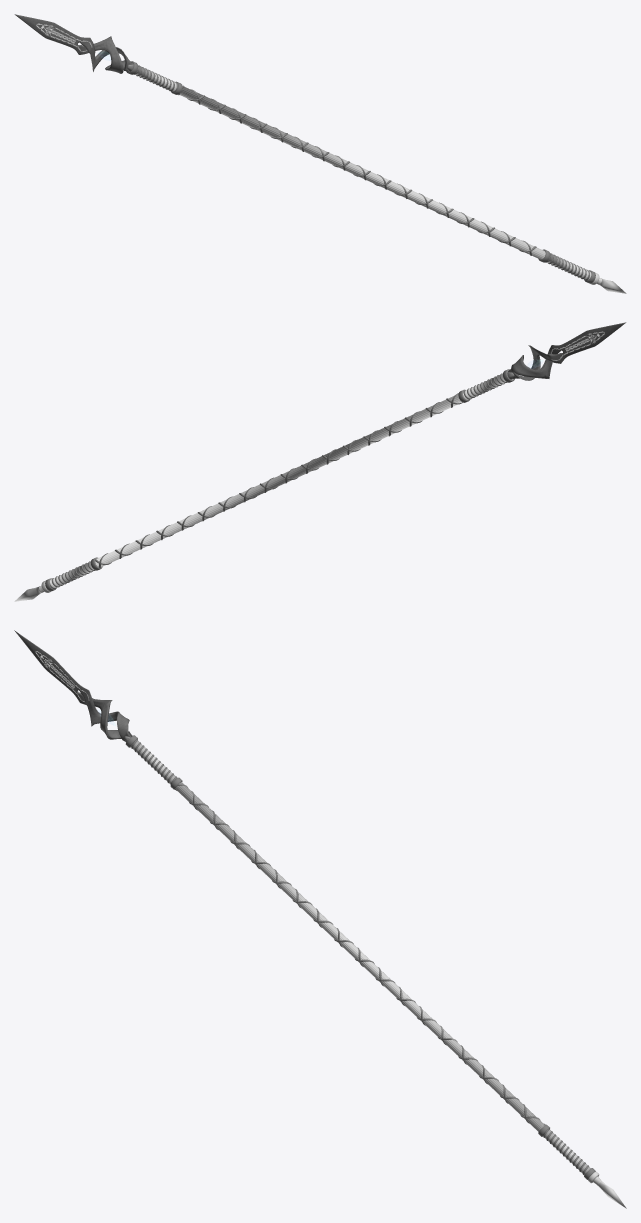
The model's file is frostwind_reach.glb.
3 views of the same model, one above another, from view 1: azimuth 30°, elevation 25°; view 2: azimuth 150°, elevation 25°; view 3: azimuth 330°, elevation 25° (orthographic).
Visible parts, largest first — view 1: Object_3, Object_4, Object_6; view 2: Object_3, Object_4, Object_6; view 3: Object_3, Object_4, Object_6.
Boxes of the visible parts, bbox=[...] form: Object_3: bbox=[126, 61, 626, 293]; Object_4: bbox=[127, 61, 595, 281]; Object_6: bbox=[14, 14, 132, 73]; Object_3: bbox=[14, 369, 514, 601]; Object_4: bbox=[45, 369, 514, 589]; Object_6: bbox=[508, 322, 626, 380]; Object_3: bbox=[124, 735, 626, 1208]; Object_4: bbox=[126, 735, 598, 1183]; Object_6: bbox=[14, 630, 132, 741].
Size of the model in its own units: 221 by 148 by 10.77.
3 materials, 3 textured.
